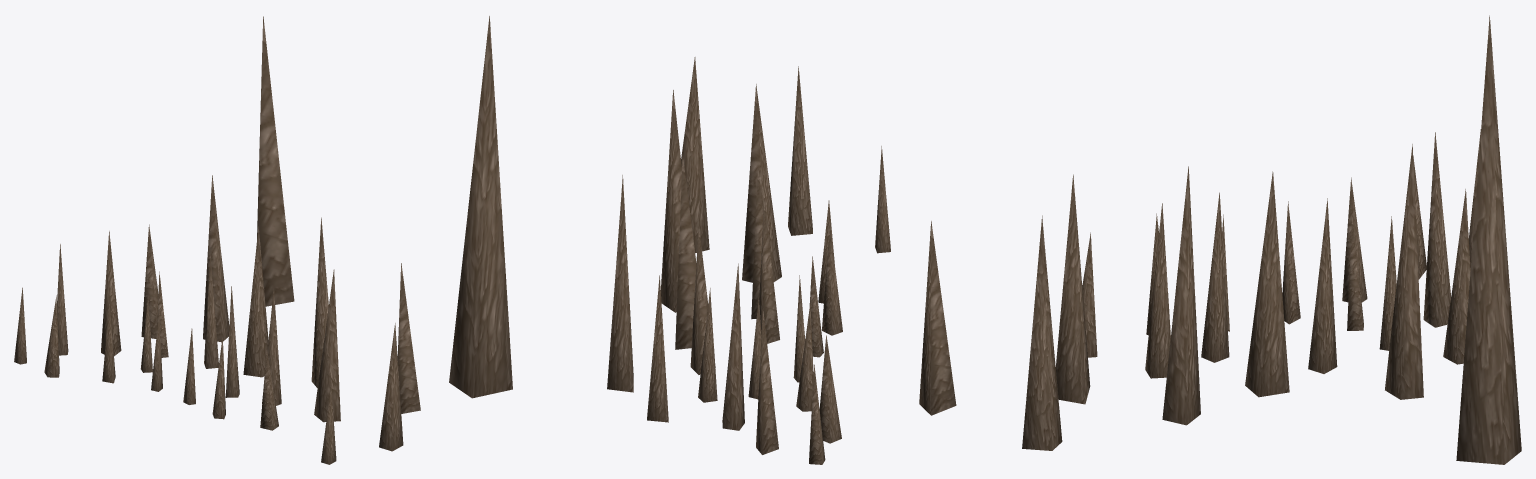
Rendered from area_11_22.fbx.
3 renders of one model, left to right at view 1: azimuth 30°, elevation 25°; view 2: azimuth 150°, elevation 25°; view 3: azimuth 270°, elevation 25°, orthographic. The views are drawn at different scales.
Parts seen in each view (by area): view 1: area_11_22; view 2: area_11_22; view 3: area_11_22.
Part boxes in pixels (x1=…): area_11_22: x1=14, y1=16, x2=420, y2=464; area_11_22: x1=449, y1=16, x2=890, y2=464; area_11_22: x1=919, y1=15, x2=1521, y2=464.
Bounding box in the file's own units: 23.92 × 23.66 × 29.61.
